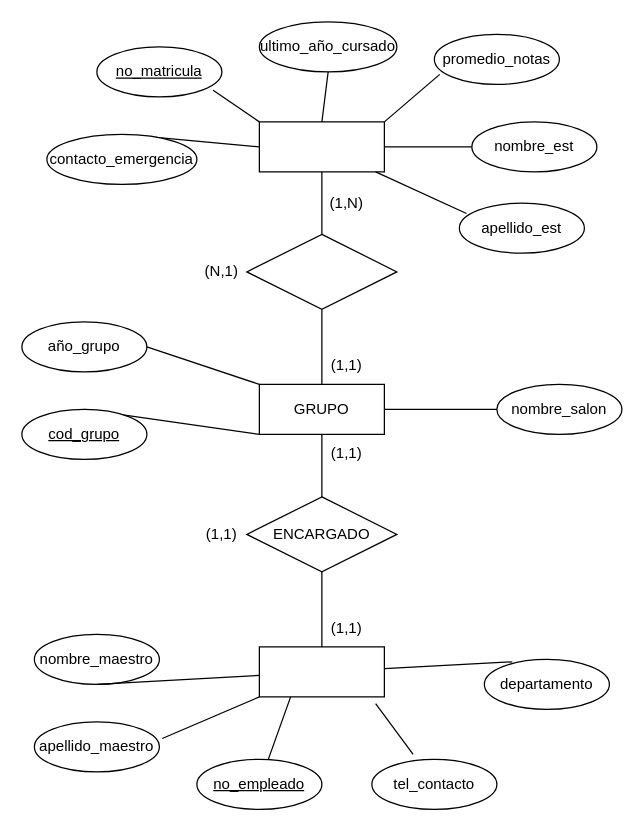
The diagram is 644 pixels wide and 831 high, and some of its shapes have lost their labels. The shapes that lost their labels are listed below. From the top down, each one's centre as x and y in pixels, then its label:
the point at 321,146: ESTUDIANTE
the point at 321,271: PERTENECE
the point at 321,671: MAESTRO
